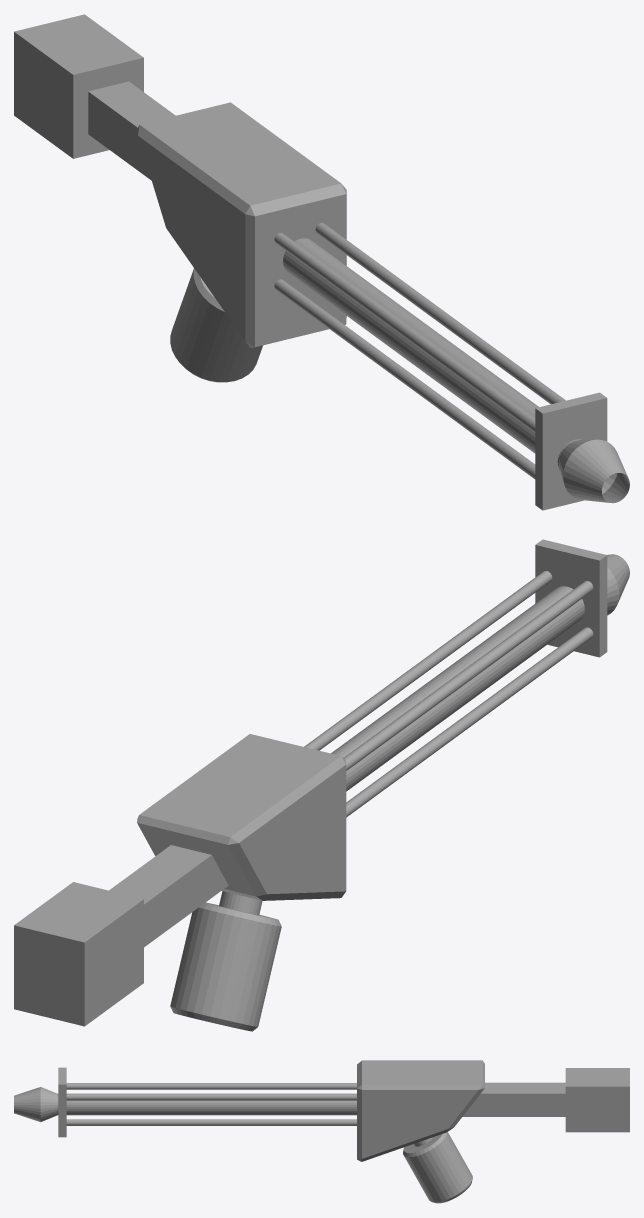
The model's file is flamethrower.obj.
The picture shows the model from 3 angles, top to bottom: view 1: azimuth 30°, elevation 25°; view 2: azimuth 150°, elevation 25°; view 3: azimuth 270°, elevation 25°; orthographic projection. The views are drawn at different scales.
Visible parts, largest first — view 1: 円柱; view 2: 円柱; view 3: 円柱.
Part boxes in pixels (x1,y1,x2,y2): 円柱: (14,14,629,510); 円柱: (14,539,629,1031); 円柱: (14,1060,629,1203).
Size of the model in its own units: 0.6651 by 1.47 by 6.44.
Materials: 1 (1 with a texture image).
